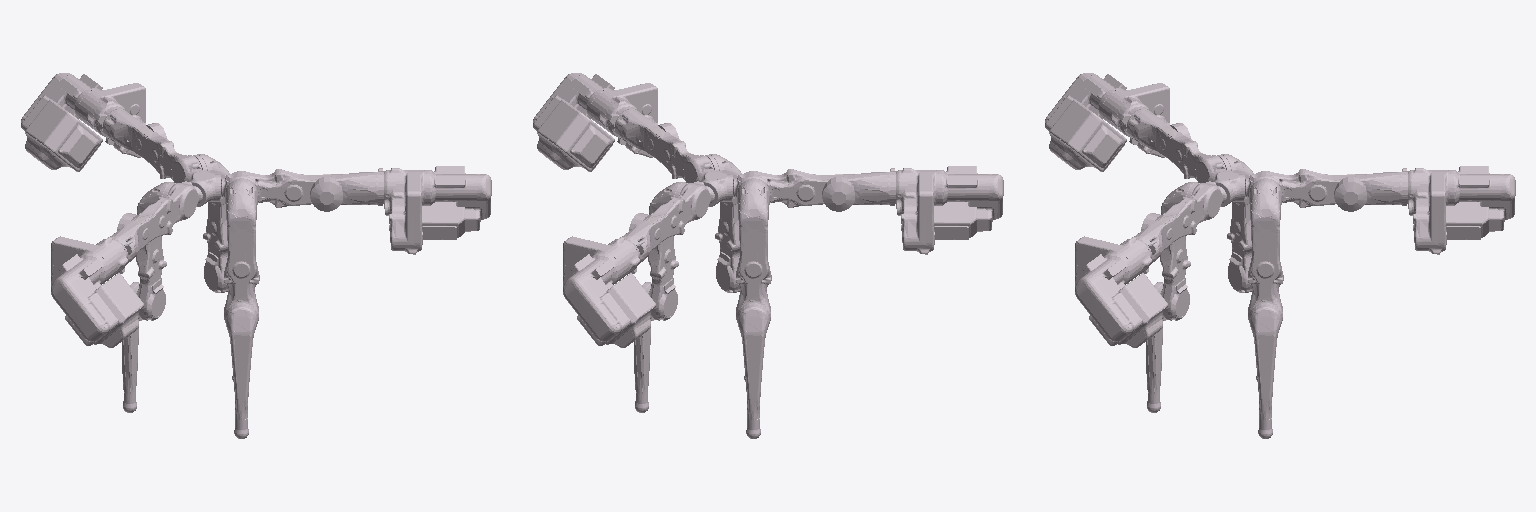
robot.urdf — trifingerpro:
<?xml version="1.0" encoding="utf-8"?>
<!-- =================================================================================== -->
<!-- |    This document was autogenerated by xacro from /is/ei/sjoshi/challenge_space/blmc_ei/workspace/src/catkin/robots/robot_properties/robot_properties_fingers/xacro/pro/trifingerpro.urdf.xacro | -->
<!-- |    EDITING THIS FILE BY HAND IS NOT RECOMMENDED                                 | -->
<!-- =================================================================================== -->
<robot name="trifingerpro">
  <!--
    Frames are defined such that they all align with the base frame when all
    joints are at position zero.

    In zero-configuration the origins of all joints are in one line.

    In zero-configuration the origin of the base link is exactly above the
    finger tip which should make it easy to place the finger in the world.
    -->
  <material name="finger_0_material">
    <color rgba="0.6 0.0 0.0 1.0"/>
  </material>
  <material name="finger_120_material">
    <color rgba="0.0 0.6 0.0 1.0"/>
  </material>
  <material name="finger_240_material">
    <color rgba="0.0 0.0 0.6 1.0"/>
  </material>
  <material name="real_finger_material">
    <color rgba="0.83 0.79 0.82 1.0"/>
  </material>
  <!-- Define the global base_link and place all other objects relative to it. -->
  <link name="base_link">
    <inertial>
      <origin rpy="0 0 0" xyz="0 0 0"/>
      <mass value="1"/>
      <inertia ixx="4.16666666667e-06" ixy="0" ixz="0" iyy="4.16666666667e-06" iyz="0" izz="4.16666666667e-06"/>
    </inertial>
  </link>
  <!-- Define the upper holder -->
  <link name="upper_holder_link">
    <visual>
      <origin rpy="0 0 0" xyz="0 0 0"/>
      <geometry>
        <mesh filename="package://robot_properties_fingers/meshes/stl/pro/SIM__BL-Finger_Center.obj" scale="1.0 1.0 1.0"/>
      </geometry>
      <material name="real_finger_material"/>
    </visual>
    <inertial>
      <origin rpy="0 0 0" xyz="0 0 0"/>
      <mass value="1"/>
      <inertia ixx="4.16666666667e-06" ixy="0" ixz="0" iyy="4.16666666667e-06" iyz="0" izz="4.16666666667e-06"/>
    </inertial>
  </link>
  <joint name="base_to_upper_holder_joint" type="fixed">
    <parent link="base_link"/>
    <child link="upper_holder_link"/>
    <origin xyz="0 0 0.29"/>
  </joint>
  <!--
        Fixed links for the finger base (parts where the upper link is mounted).
        Note: Link Frames already coincide with the joint location
        -->
  <link name="finger_base_link_0">
    <visual>
      <origin rpy="0 0 0" xyz="0 0.23295 0"/>
      <geometry>
        <mesh filename="package://robot_properties_fingers/meshes/stl/pro/SIM__BL-Finger_Base.obj" scale="1.0 1.0 1.0"/>
      </geometry>
      <material name="real_finger_material"/>
    </visual>
    <collision>
      <origin rpy="0 0 0" xyz="0 0.23295 0"/>
      <geometry>
        <mesh filename="package://robot_properties_fingers/meshes/stl/pro/SIM__BL-Finger_Base.obj" scale="1.0 1.0 1.0"/>
      </geometry>
    </collision>
    <inertial>
      <origin rpy="0 0 0" xyz="0 0 0"/>
      <mass value="1"/>
      <inertia ixx="0.000416666666667" ixy="0" ixz="0" iyy="0.000416666666667" iyz="0" izz="0.000416666666667"/>
    </inertial>
  </link>
  <link name="finger_upper_link_0">
    <visual>
      <origin rpy="0 0 0" xyz="0 0.0235 0"/>
      <geometry>
        <mesh filename="package://robot_properties_fingers/meshes/stl/pro/SIM__BL-Finger_Proximal.obj" scale="1.0 1.0 1.0"/>
      </geometry>
      <material name="real_finger_material"/>
    </visual>
    <collision>
      <origin rpy="0 0 0" xyz="0 0.0235 0"/>
      <geometry>
        <mesh filename="package://robot_properties_fingers/meshes/stl/pro/SIM__BL-Finger_Proximal.obj" scale="1.0 1.0 1.0"/>
      </geometry>
    </collision>
    <inertial>
      <origin rpy="0 0 0" xyz="0 0.06 0"/>
      <mass value="0.26"/>
      <inertia ixx="0.000459333333333" ixy="0" ixz="0" iyy="6.93333333333e-05" iyz="0" izz="0.000459333333333"/>
    </inertial>
  </link>
  <link name="finger_middle_link_0">
    <visual>
      <origin rpy="1.57079632679 0 0" xyz="0 0 0"/>
      <geometry>
        <mesh filename="package://robot_properties_fingers/meshes/stl/pro/SIM__BL-Finger_Intermediate.obj" scale="1.0 1.0 1.0"/>
      </geometry>
      <material name="real_finger_material"/>
    </visual>
    <collision>
      <origin rpy="1.57079632679 0 0" xyz="0 0 0"/>
      <geometry>
        <mesh filename="package://robot_properties_fingers/meshes/stl/pro/SIM__BL-Finger_Intermediate.obj" scale="1.0 1.0 1.0"/>
      </geometry>
    </collision>
    <inertial>
      <origin rpy="0 0 0" xyz="0.028 0 -0.08"/>
      <mass value="0.25"/>
      <inertia ixx="0.000441666666667" ixy="0" ixz="0" iyy="0.000441666666667" iyz="0" izz="6.66666666667e-05"/>
    </inertial>
  </link>
  <link name="finger_lower_link_0">
    <visual>
      <origin rpy="1.57079632679 0 0" xyz="0 0 0"/>
      <geometry>
        <mesh filename="package://robot_properties_fingers/meshes/stl/pro/SIM__BL-Finger_Tip_without_tip.obj" scale="1.0 1.0 1.0"/>
      </geometry>
      <material name="real_finger_material"/>
    </visual>
    <collision>
      <origin rpy="1.57079632679 0 0" xyz="0 0 0"/>
      <geometry>
        <mesh filename="package://robot_properties_fingers/meshes/stl/pro/SIM__BL-Finger_Tip_without_tip.obj" scale="1.0 1.0 1.0"/>
      </geometry>
    </collision>
    <inertial>
      <origin rpy="0 0 0" xyz="0 0 -0.06"/>
      <mass value="0.021"/>
      <inertia ixx="3.5e-05" ixy="0" ixz="0" iyy="3.5e-05" iyz="0" izz="1.4e-06"/>
    </inertial>
  </link>
  <!-- fixed link for finger tip -->
  <link name="finger_tip_link_0">
    <visual>
      <origin rpy="1.57079632679 0 0" xyz="-0.0185 0 0.1626"/>
      <geometry>
        <mesh filename="package://robot_properties_fingers/meshes/stl/pro/SIM__BL-Finger_Tip_actual_tip.obj" scale="1.0 1.0 1.0"/>
      </geometry>
      <material name="real_finger_material"/>
    </visual>
    <collision>
      <origin rpy="1.57079632679 0 0" xyz="-0.0185 0 0.1626"/>
      <geometry>
        <mesh filename="package://robot_properties_fingers/meshes/stl/pro/SIM__BL-Finger_Tip_actual_tip.obj" scale="1.0 1.0 1.0"/>
      </geometry>
    </collision>
    <inertial>
      <origin rpy="0 0 0" xyz="0 0 0"/>
      <mass value="0.031"/>
      <inertia ixx="5.16666666667e-07" ixy="0" ixz="0" iyy="5.16666666667e-07" iyz="0" izz="5.16666666667e-07"/>
    </inertial>
  </link>
  <joint name="finger_lower_to_tip_joint_0" type="fixed">
    <parent link="finger_lower_link_0"/>
    <child link="finger_tip_link_0"/>
    <origin xyz="0.0185 0 -0.1626"/>
  </joint>
  <!-- kinematics -->
  <!-- NOTE: Joint limits are set according to soft limits in the
             configuration of the real robot (i.e. not according to physical
             limits). -->
  <joint name="finger_base_to_upper_joint_0" type="revolute">
    <parent link="finger_base_link_0"/>
    <child link="finger_upper_link_0"/>
    <limit effort="1000" lower="-0.9" upper="1.4" velocity="1000"/>
    <axis xyz="0 1 0"/>
    <origin rpy="0 0 0" xyz="0 0 0"/>
  </joint>
  <joint name="finger_upper_to_middle_joint_0" type="revolute">
    <parent link="finger_upper_link_0"/>
    <child link="finger_middle_link_0"/>
    <limit effort="1000" lower="-1.57" upper="1.57" velocity="1000"/>
    <axis xyz="1 0 0"/>
    <origin rpy="0 0 0" xyz="0.01685 0.0505 0"/>
  </joint>
  <joint name="finger_middle_to_lower_joint_0" type="revolute">
    <parent link="finger_middle_link_0"/>
    <child link="finger_lower_link_0"/>
    <limit effort="1000" lower="-2.7" upper="0.0" velocity="1000"/>
    <axis xyz="1 0 0"/>
    <origin rpy="0 0 0" xyz="0.04922 0 -0.16"/>
  </joint>
  <!--
        Fixed links for the finger base (parts where the upper link is mounted).
        Note: Link Frames already coincide with the joint location
        -->
  <link name="finger_base_link_120">
    <visual>
      <origin rpy="0 0 0" xyz="0 0.23295 0"/>
      <geometry>
        <mesh filename="package://robot_properties_fingers/meshes/stl/pro/SIM__BL-Finger_Base.obj" scale="1.0 1.0 1.0"/>
      </geometry>
      <material name="real_finger_material"/>
    </visual>
    <collision>
      <origin rpy="0 0 0" xyz="0 0.23295 0"/>
      <geometry>
        <mesh filename="package://robot_properties_fingers/meshes/stl/pro/SIM__BL-Finger_Base.obj" scale="1.0 1.0 1.0"/>
      </geometry>
    </collision>
    <inertial>
      <origin rpy="0 0 0" xyz="0 0 0"/>
      <mass value="1"/>
      <inertia ixx="0.000416666666667" ixy="0" ixz="0" iyy="0.000416666666667" iyz="0" izz="0.000416666666667"/>
    </inertial>
  </link>
  <link name="finger_upper_link_120">
    <visual>
      <origin rpy="0 0 0" xyz="0 0.0235 0"/>
      <geometry>
        <mesh filename="package://robot_properties_fingers/meshes/stl/pro/SIM__BL-Finger_Proximal.obj" scale="1.0 1.0 1.0"/>
      </geometry>
      <material name="real_finger_material"/>
    </visual>
    <collision>
      <origin rpy="0 0 0" xyz="0 0.0235 0"/>
      <geometry>
        <mesh filename="package://robot_properties_fingers/meshes/stl/pro/SIM__BL-Finger_Proximal.obj" scale="1.0 1.0 1.0"/>
      </geometry>
    </collision>
    <inertial>
      <origin rpy="0 0 0" xyz="0 0.06 0"/>
      <mass value="0.26"/>
      <inertia ixx="0.000459333333333" ixy="0" ixz="0" iyy="6.93333333333e-05" iyz="0" izz="0.000459333333333"/>
    </inertial>
  </link>
  <link name="finger_middle_link_120">
    <visual>
      <origin rpy="1.57079632679 0 0" xyz="0 0 0"/>
      <geometry>
        <mesh filename="package://robot_properties_fingers/meshes/stl/pro/SIM__BL-Finger_Intermediate.obj" scale="1.0 1.0 1.0"/>
      </geometry>
      <material name="real_finger_material"/>
    </visual>
    <collision>
      <origin rpy="1.57079632679 0 0" xyz="0 0 0"/>
      <geometry>
        <mesh filename="package://robot_properties_fingers/meshes/stl/pro/SIM__BL-Finger_Intermediate.obj" scale="1.0 1.0 1.0"/>
      </geometry>
    </collision>
    <inertial>
      <origin rpy="0 0 0" xyz="0.028 0 -0.08"/>
      <mass value="0.25"/>
      <inertia ixx="0.000441666666667" ixy="0" ixz="0" iyy="0.000441666666667" iyz="0" izz="6.66666666667e-05"/>
    </inertial>
  </link>
  <link name="finger_lower_link_120">
    <visual>
      <origin rpy="1.57079632679 0 0" xyz="0 0 0"/>
      <geometry>
        <mesh filename="package://robot_properties_fingers/meshes/stl/pro/SIM__BL-Finger_Tip_without_tip.obj" scale="1.0 1.0 1.0"/>
      </geometry>
      <material name="real_finger_material"/>
    </visual>
    <collision>
      <origin rpy="1.57079632679 0 0" xyz="0 0 0"/>
      <geometry>
        <mesh filename="package://robot_properties_fingers/meshes/stl/pro/SIM__BL-Finger_Tip_without_tip.obj" scale="1.0 1.0 1.0"/>
      </geometry>
    </collision>
    <inertial>
      <origin rpy="0 0 0" xyz="0 0 -0.06"/>
      <mass value="0.021"/>
      <inertia ixx="3.5e-05" ixy="0" ixz="0" iyy="3.5e-05" iyz="0" izz="1.4e-06"/>
    </inertial>
  </link>
  <!-- fixed link for finger tip -->
  <link name="finger_tip_link_120">
    <visual>
      <origin rpy="1.57079632679 0 0" xyz="-0.0185 0 0.1626"/>
      <geometry>
        <mesh filename="package://robot_properties_fingers/meshes/stl/pro/SIM__BL-Finger_Tip_actual_tip.obj" scale="1.0 1.0 1.0"/>
      </geometry>
      <material name="real_finger_material"/>
    </visual>
    <collision>
      <origin rpy="1.57079632679 0 0" xyz="-0.0185 0 0.1626"/>
      <geometry>
        <mesh filename="package://robot_properties_fingers/meshes/stl/pro/SIM__BL-Finger_Tip_actual_tip.obj" scale="1.0 1.0 1.0"/>
      </geometry>
    </collision>
    <inertial>
      <origin rpy="0 0 0" xyz="0 0 0"/>
      <mass value="0.031"/>
      <inertia ixx="5.16666666667e-07" ixy="0" ixz="0" iyy="5.16666666667e-07" iyz="0" izz="5.16666666667e-07"/>
    </inertial>
  </link>
  <joint name="finger_lower_to_tip_joint_120" type="fixed">
    <parent link="finger_lower_link_120"/>
    <child link="finger_tip_link_120"/>
    <origin xyz="0.0185 0 -0.1626"/>
  </joint>
  <!-- kinematics -->
  <!-- NOTE: Joint limits are set according to soft limits in the
             configuration of the real robot (i.e. not according to physical
             limits). -->
  <joint name="finger_base_to_upper_joint_120" type="revolute">
    <parent link="finger_base_link_120"/>
    <child link="finger_upper_link_120"/>
    <limit effort="1000" lower="-0.9" upper="1.4" velocity="1000"/>
    <axis xyz="0 1 0"/>
    <origin rpy="0 0 0" xyz="0 0 0"/>
  </joint>
  <joint name="finger_upper_to_middle_joint_120" type="revolute">
    <parent link="finger_upper_link_120"/>
    <child link="finger_middle_link_120"/>
    <limit effort="1000" lower="-1.57" upper="1.57" velocity="1000"/>
    <axis xyz="1 0 0"/>
    <origin rpy="0 0 0" xyz="0.01685 0.0505 0"/>
  </joint>
  <joint name="finger_middle_to_lower_joint_120" type="revolute">
    <parent link="finger_middle_link_120"/>
    <child link="finger_lower_link_120"/>
    <limit effort="1000" lower="-2.7" upper="0.0" velocity="1000"/>
    <axis xyz="1 0 0"/>
    <origin rpy="0 0 0" xyz="0.04922 0 -0.16"/>
  </joint>
  <!--
        Fixed links for the finger base (parts where the upper link is mounted).
        Note: Link Frames already coincide with the joint location
        -->
  <link name="finger_base_link_240">
    <visual>
      <origin rpy="0 0 0" xyz="0 0.23295 0"/>
      <geometry>
        <mesh filename="package://robot_properties_fingers/meshes/stl/pro/SIM__BL-Finger_Base.obj" scale="1.0 1.0 1.0"/>
      </geometry>
      <material name="real_finger_material"/>
    </visual>
    <collision>
      <origin rpy="0 0 0" xyz="0 0.23295 0"/>
      <geometry>
        <mesh filename="package://robot_properties_fingers/meshes/stl/pro/SIM__BL-Finger_Base.obj" scale="1.0 1.0 1.0"/>
      </geometry>
    </collision>
    <inertial>
      <origin rpy="0 0 0" xyz="0 0 0"/>
      <mass value="1"/>
      <inertia ixx="0.000416666666667" ixy="0" ixz="0" iyy="0.000416666666667" iyz="0" izz="0.000416666666667"/>
    </inertial>
  </link>
  <link name="finger_upper_link_240">
    <visual>
      <origin rpy="0 0 0" xyz="0 0.0235 0"/>
      <geometry>
        <mesh filename="package://robot_properties_fingers/meshes/stl/pro/SIM__BL-Finger_Proximal.obj" scale="1.0 1.0 1.0"/>
      </geometry>
      <material name="real_finger_material"/>
    </visual>
    <collision>
      <origin rpy="0 0 0" xyz="0 0.0235 0"/>
      <geometry>
        <mesh filename="package://robot_properties_fingers/meshes/stl/pro/SIM__BL-Finger_Proximal.obj" scale="1.0 1.0 1.0"/>
      </geometry>
    </collision>
    <inertial>
      <origin rpy="0 0 0" xyz="0 0.06 0"/>
      <mass value="0.26"/>
      <inertia ixx="0.000459333333333" ixy="0" ixz="0" iyy="6.93333333333e-05" iyz="0" izz="0.000459333333333"/>
    </inertial>
  </link>
  <link name="finger_middle_link_240">
    <visual>
      <origin rpy="1.57079632679 0 0" xyz="0 0 0"/>
      <geometry>
        <mesh filename="package://robot_properties_fingers/meshes/stl/pro/SIM__BL-Finger_Intermediate.obj" scale="1.0 1.0 1.0"/>
      </geometry>
      <material name="real_finger_material"/>
    </visual>
    <collision>
      <origin rpy="1.57079632679 0 0" xyz="0 0 0"/>
      <geometry>
        <mesh filename="package://robot_properties_fingers/meshes/stl/pro/SIM__BL-Finger_Intermediate.obj" scale="1.0 1.0 1.0"/>
      </geometry>
    </collision>
    <inertial>
      <origin rpy="0 0 0" xyz="0.028 0 -0.08"/>
      <mass value="0.25"/>
      <inertia ixx="0.000441666666667" ixy="0" ixz="0" iyy="0.000441666666667" iyz="0" izz="6.66666666667e-05"/>
    </inertial>
  </link>
  <link name="finger_lower_link_240">
    <visual>
      <origin rpy="1.57079632679 0 0" xyz="0 0 0"/>
      <geometry>
        <mesh filename="package://robot_properties_fingers/meshes/stl/pro/SIM__BL-Finger_Tip_without_tip.obj" scale="1.0 1.0 1.0"/>
      </geometry>
      <material name="real_finger_material"/>
    </visual>
    <collision>
      <origin rpy="1.57079632679 0 0" xyz="0 0 0"/>
      <geometry>
        <mesh filename="package://robot_properties_fingers/meshes/stl/pro/SIM__BL-Finger_Tip_without_tip.obj" scale="1.0 1.0 1.0"/>
      </geometry>
    </collision>
    <inertial>
      <origin rpy="0 0 0" xyz="0 0 -0.06"/>
      <mass value="0.021"/>
      <inertia ixx="3.5e-05" ixy="0" ixz="0" iyy="3.5e-05" iyz="0" izz="1.4e-06"/>
    </inertial>
  </link>
  <!-- fixed link for finger tip -->
  <link name="finger_tip_link_240">
    <visual>
      <origin rpy="1.57079632679 0 0" xyz="-0.0185 0 0.1626"/>
      <geometry>
        <mesh filename="package://robot_properties_fingers/meshes/stl/pro/SIM__BL-Finger_Tip_actual_tip.obj" scale="1.0 1.0 1.0"/>
      </geometry>
      <material name="real_finger_material"/>
    </visual>
    <collision>
      <origin rpy="1.57079632679 0 0" xyz="-0.0185 0 0.1626"/>
      <geometry>
        <mesh filename="package://robot_properties_fingers/meshes/stl/pro/SIM__BL-Finger_Tip_actual_tip.obj" scale="1.0 1.0 1.0"/>
      </geometry>
    </collision>
    <inertial>
      <origin rpy="0 0 0" xyz="0 0 0"/>
      <mass value="0.031"/>
      <inertia ixx="5.16666666667e-07" ixy="0" ixz="0" iyy="5.16666666667e-07" iyz="0" izz="5.16666666667e-07"/>
    </inertial>
  </link>
  <joint name="finger_lower_to_tip_joint_240" type="fixed">
    <parent link="finger_lower_link_240"/>
    <child link="finger_tip_link_240"/>
    <origin xyz="0.0185 0 -0.1626"/>
  </joint>
  <!-- kinematics -->
  <!-- NOTE: Joint limits are set according to soft limits in the
             configuration of the real robot (i.e. not according to physical
             limits). -->
  <joint name="finger_base_to_upper_joint_240" type="revolute">
    <parent link="finger_base_link_240"/>
    <child link="finger_upper_link_240"/>
    <limit effort="1000" lower="-0.9" upper="1.4" velocity="1000"/>
    <axis xyz="0 1 0"/>
    <origin rpy="0 0 0" xyz="0 0 0"/>
  </joint>
  <joint name="finger_upper_to_middle_joint_240" type="revolute">
    <parent link="finger_upper_link_240"/>
    <child link="finger_middle_link_240"/>
    <limit effort="1000" lower="-1.57" upper="1.57" velocity="1000"/>
    <axis xyz="1 0 0"/>
    <origin rpy="0 0 0" xyz="0.01685 0.0505 0"/>
  </joint>
  <joint name="finger_middle_to_lower_joint_240" type="revolute">
    <parent link="finger_middle_link_240"/>
    <child link="finger_lower_link_240"/>
    <limit effort="1000" lower="-2.7" upper="0.0" velocity="1000"/>
    <axis xyz="1 0 0"/>
    <origin rpy="0 0 0" xyz="0.04922 0 -0.16"/>
  </joint>
  <joint name="holder_to_finger_0" type="fixed">
    <parent link="upper_holder_link"/>
    <child link="finger_base_link_0"/>
    <origin rpy="0 0 0.0" xyz="0 0 0"/>
  </joint>
  <joint name="holder_to_finger_120" type="fixed">
    <parent link="upper_holder_link"/>
    <child link="finger_base_link_120"/>
    <origin rpy="0 0 -2.09439510239" xyz="0 0 0"/>
  </joint>
  <joint name="holder_to_finger_240" type="fixed">
    <parent link="upper_holder_link"/>
    <child link="finger_base_link_240"/>
    <origin rpy="0 0 -4.18879020479" xyz="0 0 0"/>
  </joint>
</robot>

--- Facts derived from the render (not from the file) ---
3 views of the same robot in one strip: view 1: azimuth 30°, elevation 25°; view 2: azimuth 150°, elevation 25°; view 3: azimuth 270°, elevation 25° (orthographic).
Model trifingerpro with 17 links and 16 joints (9 revolute, 7 fixed), rooted at base_link, posed all joints at 0.
Visible links, largest first — view 1: finger_base_link_240, finger_base_link_120, finger_base_link_0, finger_upper_link_120, finger_middle_link_120, finger_upper_link_0, finger_upper_link_240, finger_lower_link_120, finger_middle_link_240, finger_middle_link_0, finger_lower_link_240, upper_holder_link; view 2: finger_base_link_0, finger_base_link_240, finger_base_link_120, finger_upper_link_240, finger_middle_link_240, finger_upper_link_120, finger_upper_link_0, finger_lower_link_240, finger_middle_link_0, finger_middle_link_120, finger_lower_link_0, upper_holder_link; view 3: finger_base_link_120, finger_base_link_0, finger_base_link_240, finger_upper_link_0, finger_middle_link_0, finger_upper_link_240, finger_upper_link_120, finger_lower_link_0, finger_middle_link_120, finger_middle_link_240, finger_lower_link_120, upper_holder_link.
Boxes of the visible links, bbox=[...] form: finger_base_link_240: bbox=[51, 236, 143, 347]; finger_base_link_120: bbox=[378, 166, 491, 254]; finger_base_link_0: bbox=[21, 73, 145, 171]; finger_upper_link_120: bbox=[221, 169, 377, 211]; finger_middle_link_120: bbox=[220, 179, 259, 320]; finger_upper_link_0: bbox=[102, 109, 202, 182]; finger_upper_link_240: bbox=[110, 181, 202, 261]; finger_lower_link_120: bbox=[225, 303, 257, 429]; finger_middle_link_240: bbox=[136, 182, 175, 320]; finger_middle_link_0: bbox=[193, 154, 229, 292]; finger_lower_link_240: bbox=[122, 282, 142, 403]; upper_holder_link: bbox=[184, 169, 220, 206]; finger_base_link_0: bbox=[563, 236, 655, 347]; finger_base_link_240: bbox=[890, 166, 1003, 254]; finger_base_link_120: bbox=[533, 73, 657, 171]; finger_upper_link_240: bbox=[733, 169, 889, 211]; finger_middle_link_240: bbox=[732, 179, 771, 320]; finger_upper_link_120: bbox=[614, 109, 714, 182]; finger_upper_link_0: bbox=[622, 181, 714, 261]; finger_lower_link_240: bbox=[737, 303, 769, 429]; finger_middle_link_0: bbox=[648, 182, 687, 320]; finger_middle_link_120: bbox=[705, 154, 741, 292]; finger_lower_link_0: bbox=[634, 282, 654, 403]; upper_holder_link: bbox=[696, 169, 732, 206]; finger_base_link_120: bbox=[1075, 236, 1167, 347]; finger_base_link_0: bbox=[1402, 166, 1515, 254]; finger_base_link_240: bbox=[1045, 73, 1169, 171]; finger_upper_link_0: bbox=[1245, 169, 1401, 211]; finger_middle_link_0: bbox=[1244, 179, 1283, 320]; finger_upper_link_240: bbox=[1126, 109, 1226, 182]; finger_upper_link_120: bbox=[1134, 181, 1226, 261]; finger_lower_link_0: bbox=[1249, 303, 1281, 429]; finger_middle_link_120: bbox=[1160, 182, 1199, 320]; finger_middle_link_240: bbox=[1217, 154, 1253, 292]; finger_lower_link_120: bbox=[1146, 282, 1166, 403]; upper_holder_link: bbox=[1208, 169, 1244, 206].
Bounding box of the posed robot: 0.6989 × 0.6287 × 0.3586 m (x, y, z).
16 mesh visuals loaded from 6 distinct referenced files (6 OBJ).
